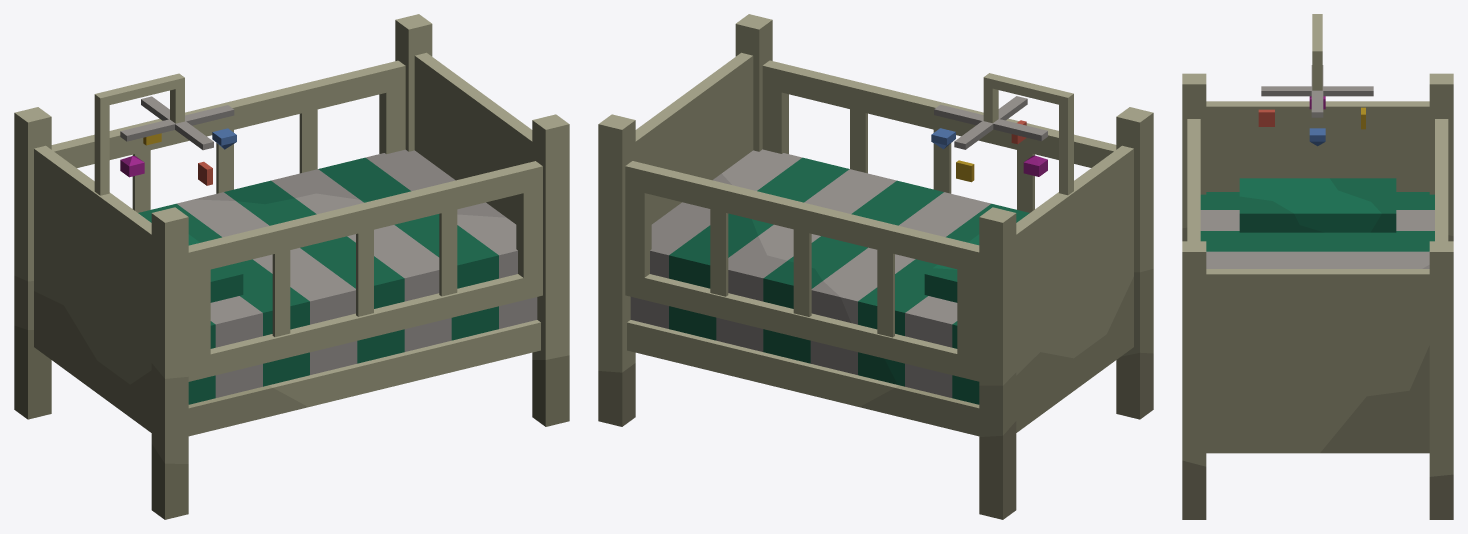
Rendered from AI_Prop_Crib.fbx.
3 views of the same model, side by side, from view 1: azimuth 30°, elevation 25°; view 2: azimuth 150°, elevation 25°; view 3: azimuth 270°, elevation 25° (orthographic). The views are drawn at different scales.
Visible parts, largest first — view 1: AI_Prop_Crib; view 2: AI_Prop_Crib; view 3: AI_Prop_Crib.
Part boxes in pixels (<box>): AI_Prop_Crib: <box>14,14,569,519</box>; AI_Prop_Crib: <box>598,14,1153,519</box>; AI_Prop_Crib: <box>1182,14,1453,519</box>.
Bounding box in the file's own units: 2.7 × 2.34 × 1.74.
